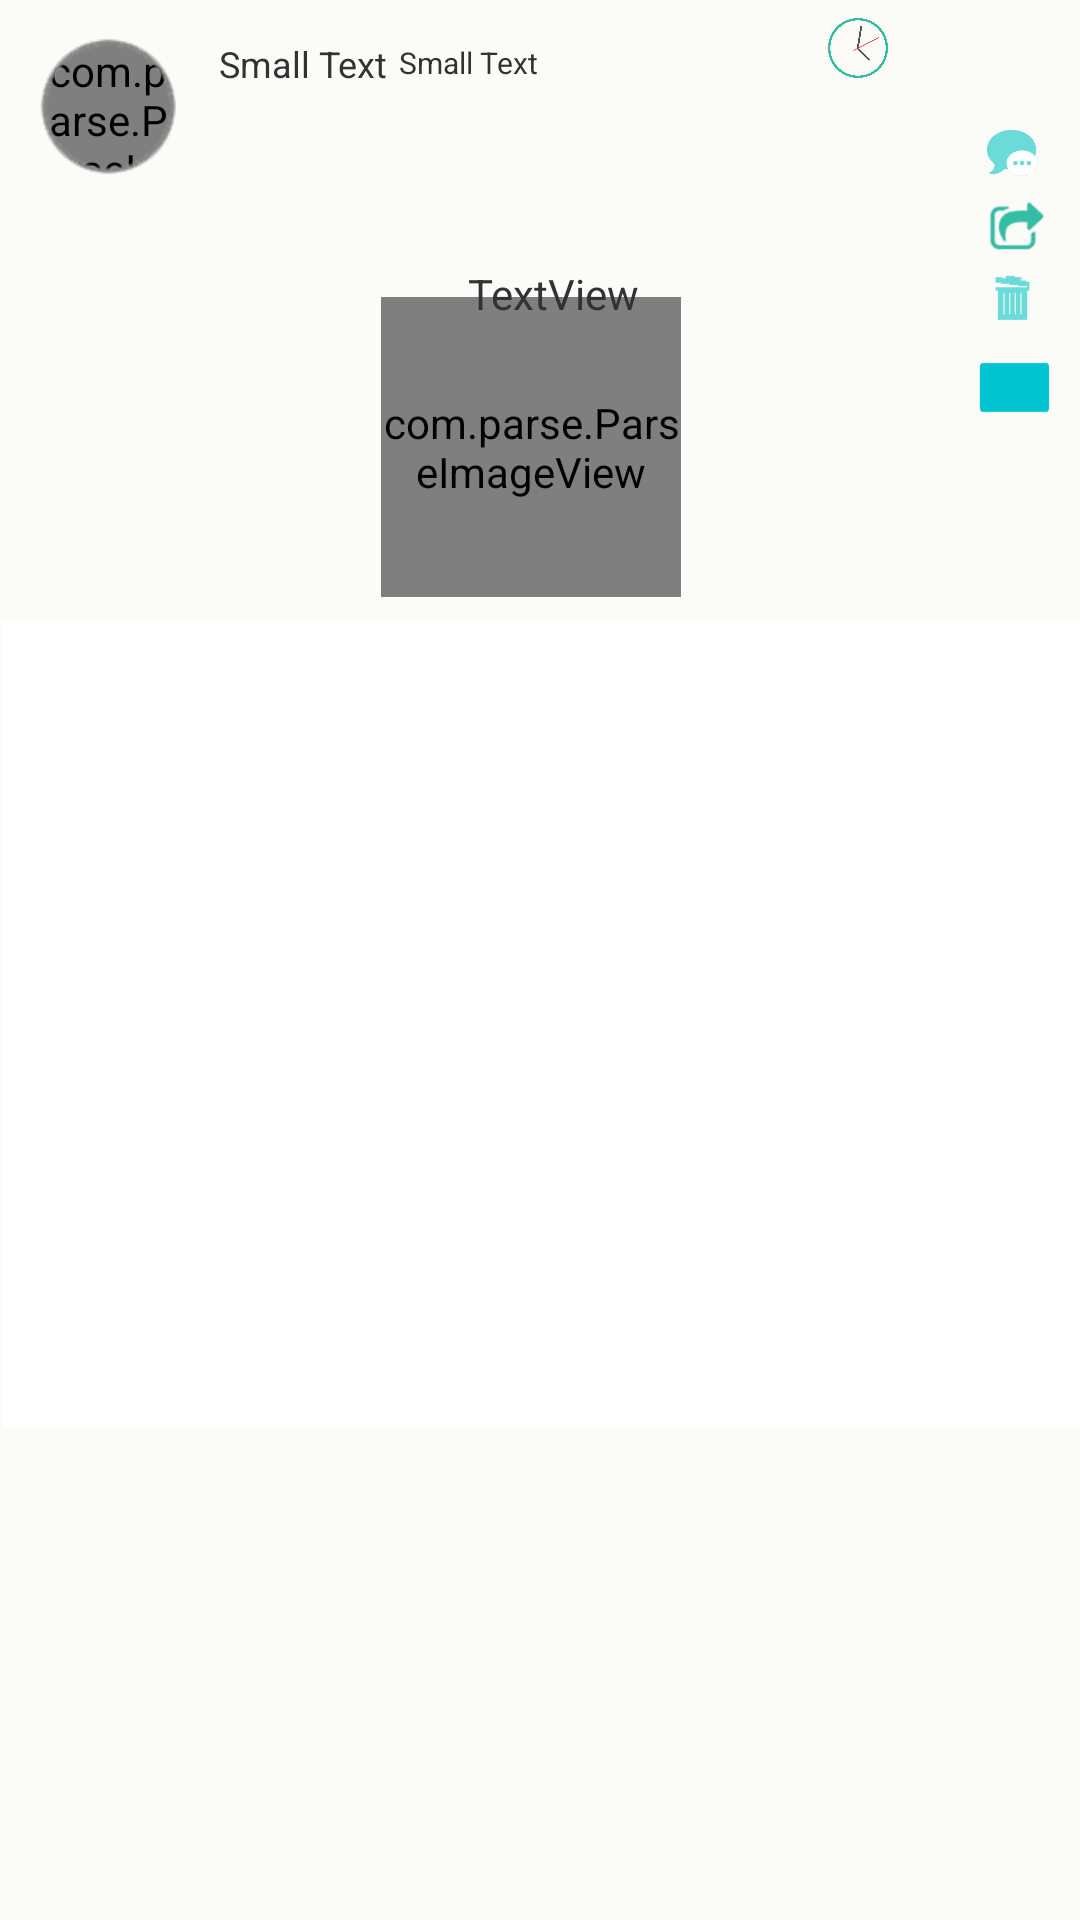

Icons on this 1080px×1920px Android screen, each with its box as bbox=(x1, y1, x2, y2):
delete: bbox=(995, 276, 1030, 320)
repost: bbox=(990, 202, 1044, 250)
time: bbox=(828, 18, 888, 78)
